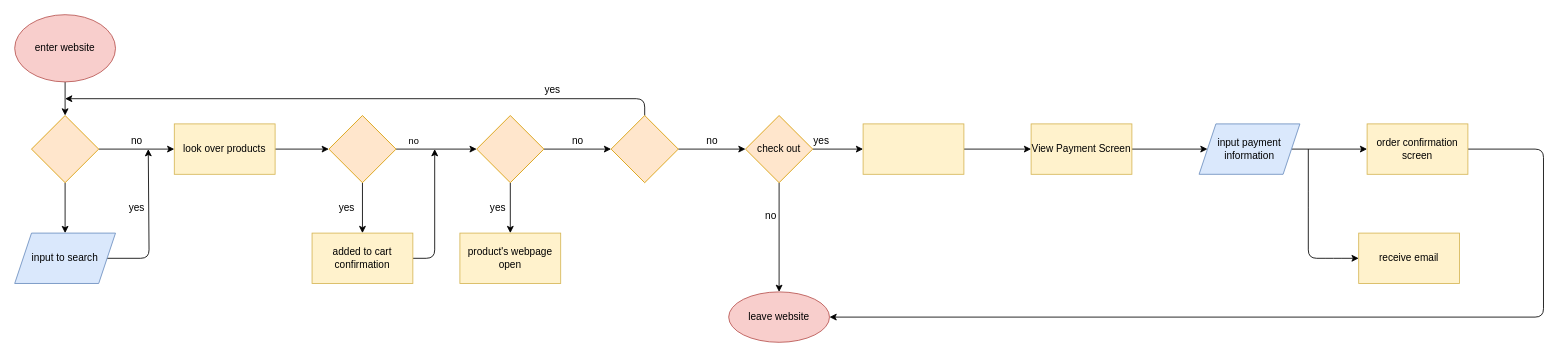
Image size: 1565x357. Some labels were removed from this diagram. The box of each missing label's shape, as (x1, y1, x2, y2) in pixels:
add to cart: (328, 115, 396, 183)
continue shopping: (610, 115, 678, 183)
search for a product: (31, 115, 99, 183)
view a specific product: (476, 115, 544, 183)
View Cart Screen: (862, 123, 964, 174)
